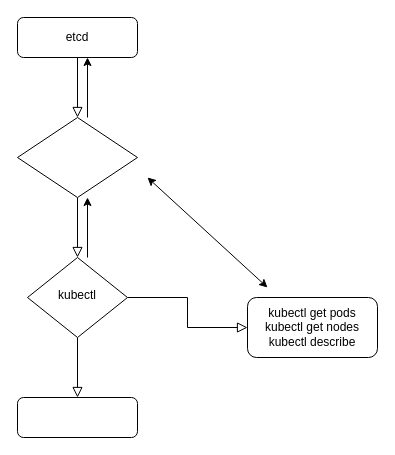
This 395x455 diagram has some shape labels left out. Each missing label, with the centre of its shape:
"kube-api-server" belongs at point (77, 157).
"Repair Lamp" belongs at point (77, 417).
